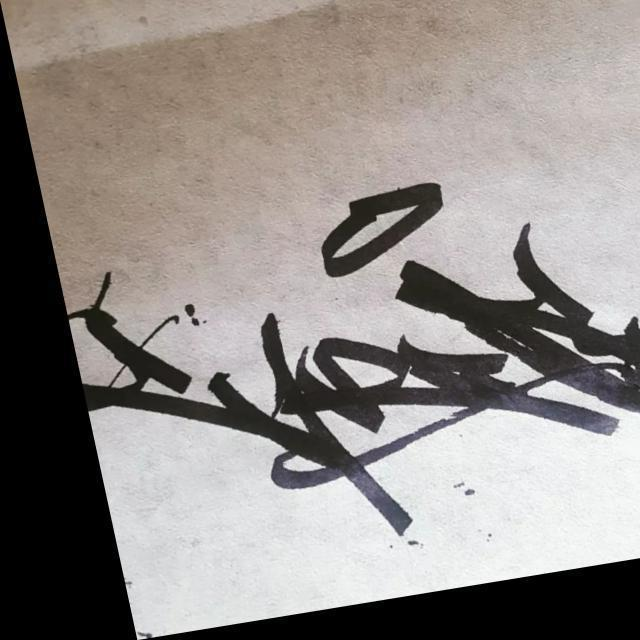nonspitting: (67, 182, 640, 537)
